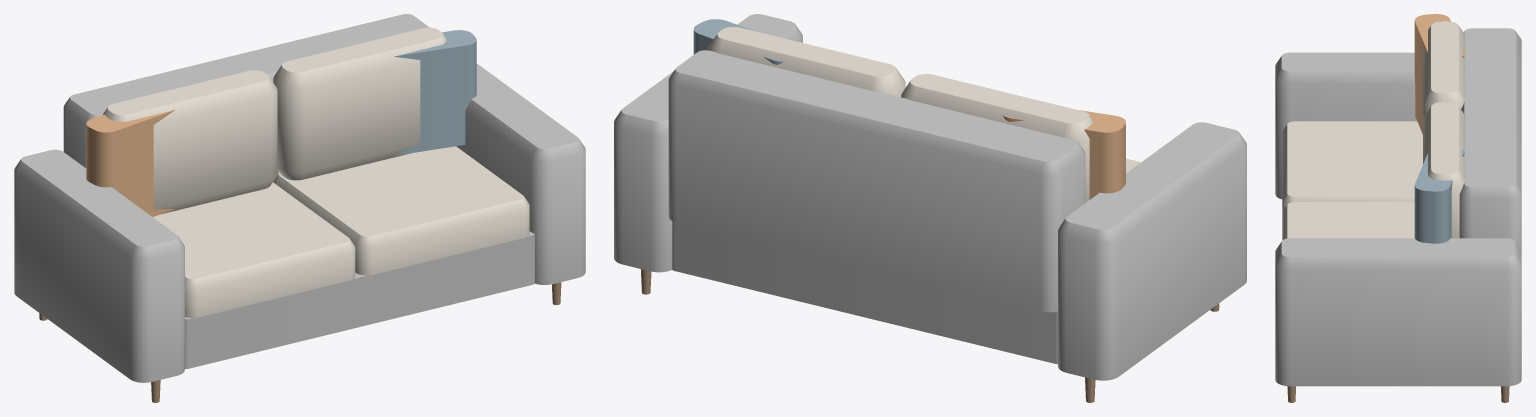
3 views of the same model, side by side, from view 1: azimuth 30°, elevation 25°; view 2: azimuth 150°, elevation 25°; view 3: azimuth 270°, elevation 25° (orthographic). The views are drawn at different scales.
Parts seen in each view (by area): view 1: Sofa văng Chiều dài=1800; view 2: Sofa văng Chiều dài=1800; view 3: Sofa văng Chiều dài=1800.
Boxes of the visible parts, <box> form: Sofa văng Chiều dài=1800: <box>14,14,585,402</box>; Sofa văng Chiều dài=1800: <box>614,14,1246,402</box>; Sofa văng Chiều dài=1800: <box>1275,14,1521,402</box>.
Bounding box in the file's own units: 1.82 × 0.85 × 0.9.
